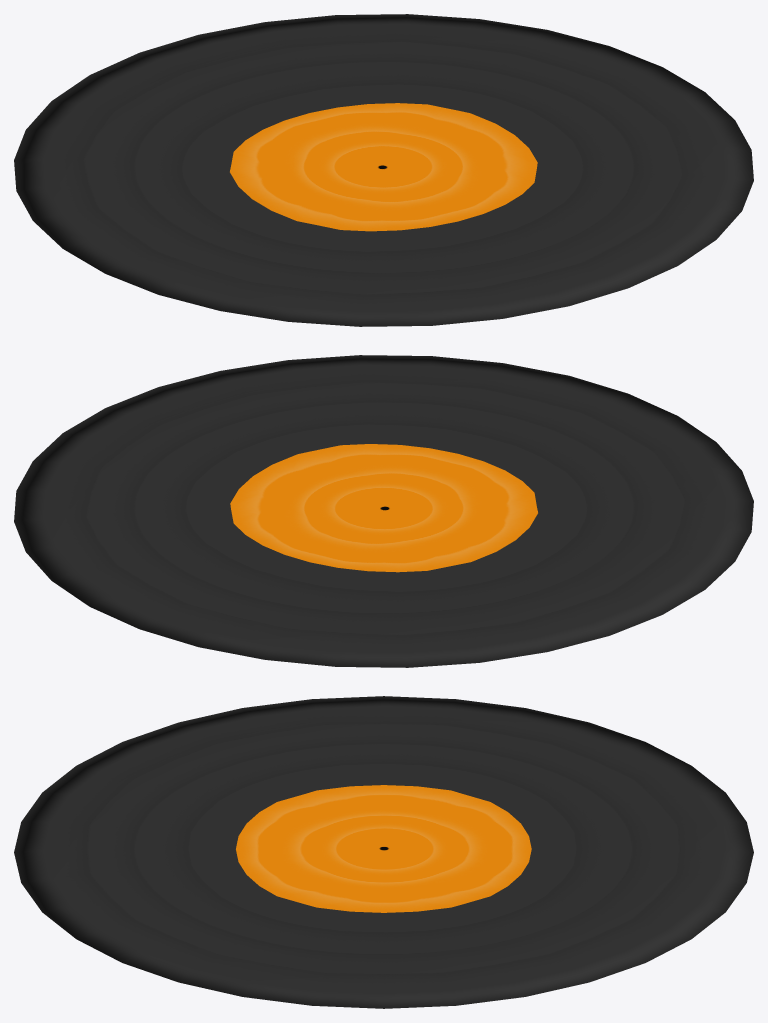
The model's file is Vinyl.FBX.
The picture shows the model from 3 angles, top to bottom: view 1: azimuth 30°, elevation 25°; view 2: azimuth 150°, elevation 25°; view 3: azimuth 270°, elevation 25°; orthographic projection.
Parts seen in each view (by area): view 1: Cylinder001; view 2: Cylinder001; view 3: Cylinder001.
Boxes of the visible parts, left/top/right/bottom form: Cylinder001: left=14, top=14, right=753, bottom=326; Cylinder001: left=14, top=355, right=753, bottom=667; Cylinder001: left=14, top=696, right=753, bottom=1008.
Size of the model in its own units: 15.45 by 0.1537 by 15.45.
1 material, 1 textured.
